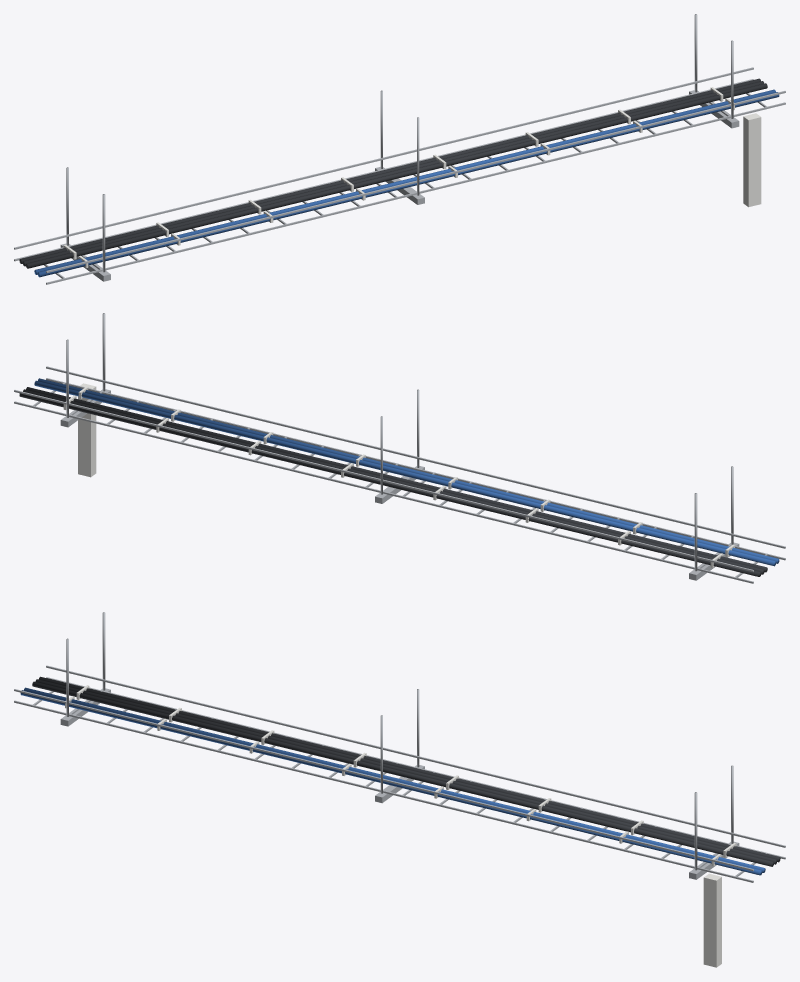
The model's file is Arch_Ceiling_CableTray_4m.gltf.
The picture shows the model from 3 angles, top to bottom: view 1: azimuth 30°, elevation 25°; view 2: azimuth 150°, elevation 25°; view 3: azimuth 330°, elevation 25°; orthographic projection.
Visible parts, largest first — view 1: Arch_Ceiling_CableTray_4m; view 2: Arch_Ceiling_CableTray_4m; view 3: Arch_Ceiling_CableTray_4m.
Boxes of the visible parts, <box> form: Arch_Ceiling_CableTray_4m: <box>14,14,785,284</box>; Arch_Ceiling_CableTray_4m: <box>14,313,785,583</box>; Arch_Ceiling_CableTray_4m: <box>14,612,785,967</box>.
Bounding box in the file's own units: 4 × 0.858 × 0.41.
